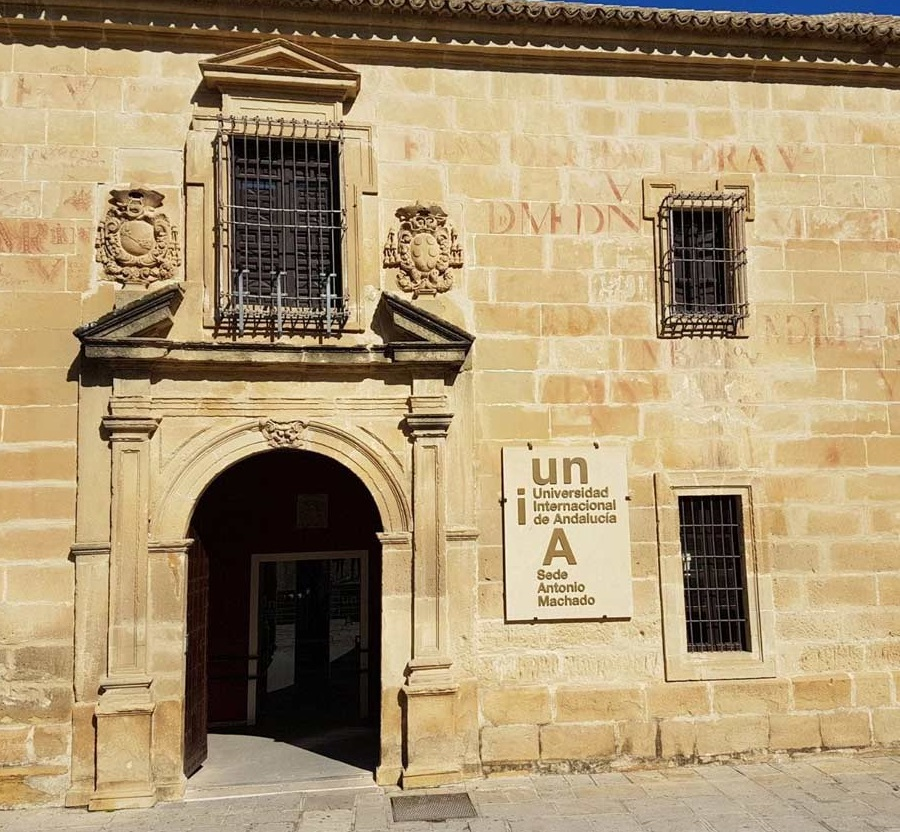arco-medio-punto: (164, 426, 404, 563)
fronton: (194, 38, 366, 94)
fronton-partido: (63, 278, 485, 376)
vano-adintelado: (180, 109, 381, 337), (651, 467, 774, 665), (636, 169, 764, 350)
